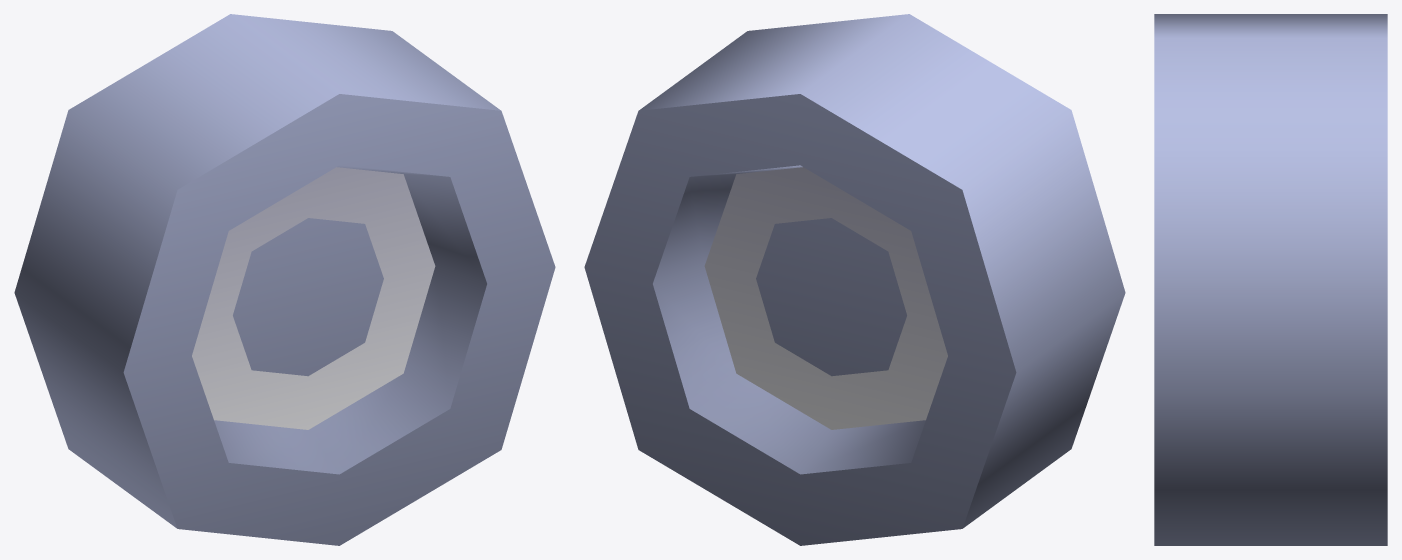
Rendered from coin-bronze.glb.
The picture shows the model from 3 angles, left to right: view 1: azimuth 30°, elevation 25°; view 2: azimuth 150°, elevation 25°; view 3: azimuth 270°, elevation 25°; orthographic projection. The views are drawn at different scales.
Parts seen in each view (by area): view 1: coin-bronze; view 2: coin-bronze; view 3: coin-bronze.
Part boxes in pixels (<box>): coin-bronze: <box>14,14,555,545</box>; coin-bronze: <box>584,14,1125,545</box>; coin-bronze: <box>1154,14,1387,545</box>.
Bounding box in the file's own units: 0.4 × 0.4 × 0.175.
